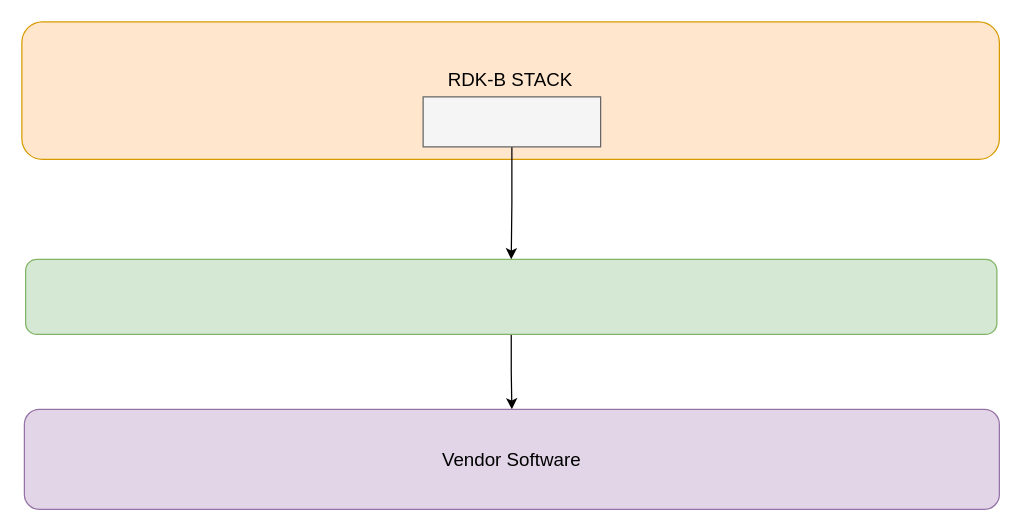
This 1021x531 diagram has some shape labels left out. The centre of each missing label's shape, as x and y in pixels:
"Broadband CM HAL (libcm_mgnt)" belongs at point (510, 296).
"CcspCMAgent" belongs at point (511, 121).
